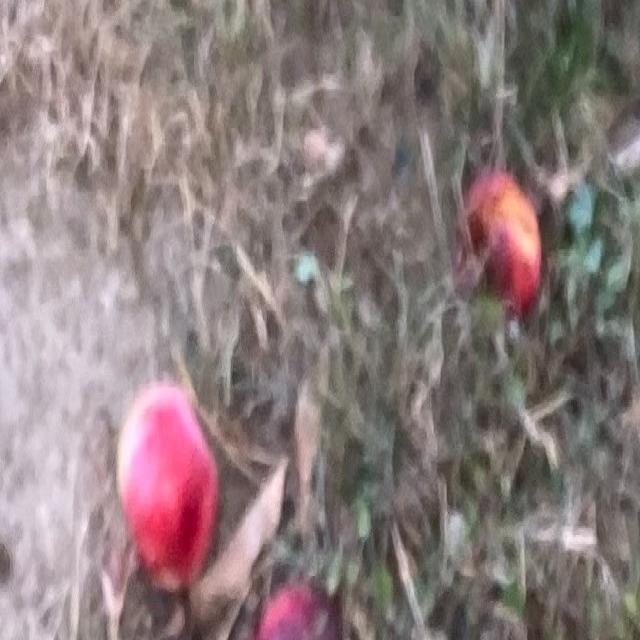100-_ripeness: (120, 389, 219, 585), (458, 172, 543, 324), (255, 581, 344, 640)
